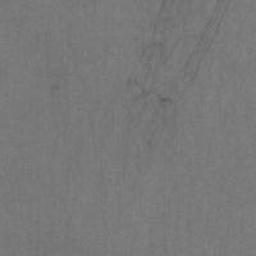Water spot: (122, 0, 232, 174)
